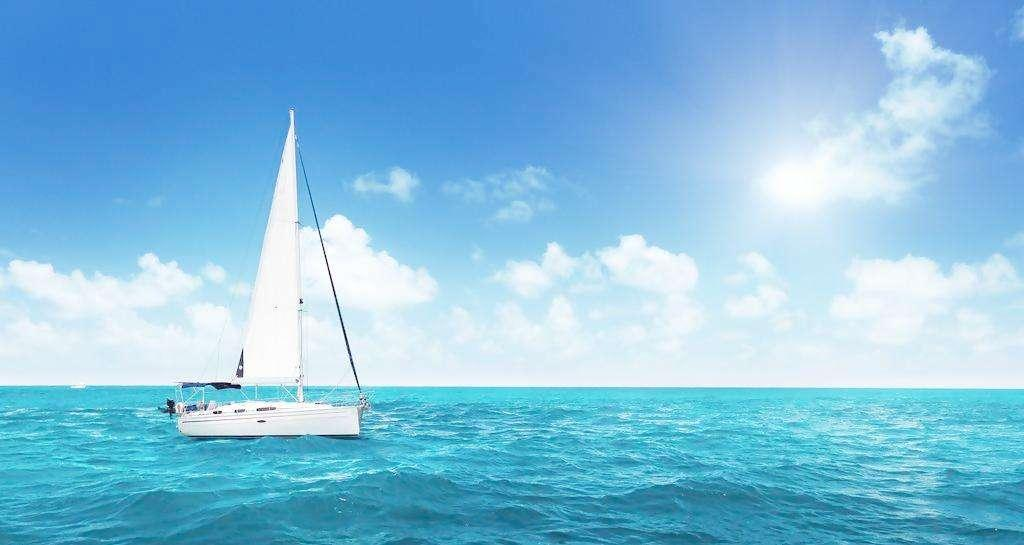fanchuan: (165, 107, 383, 445)
